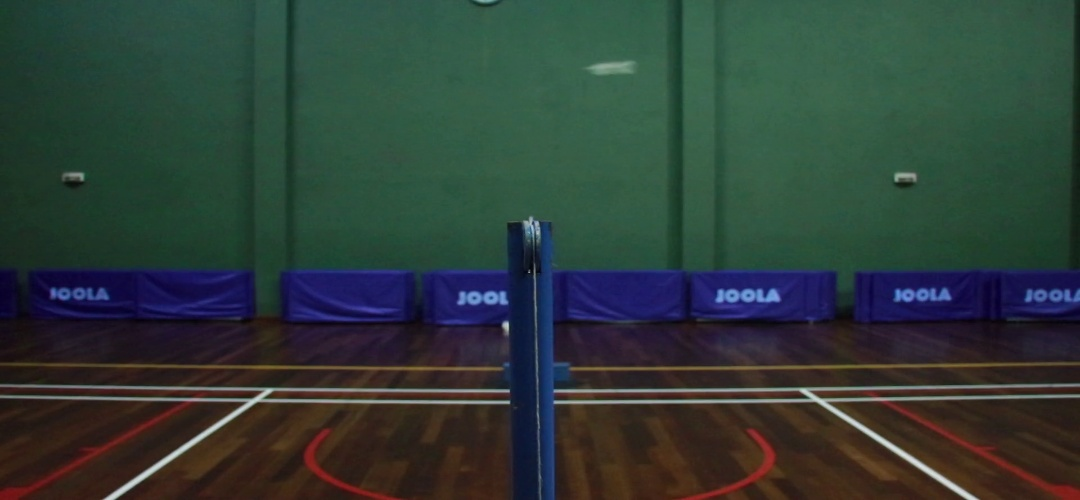c1: (237, 394, 269, 410)
c2: (794, 391, 849, 411)
net_level: (507, 222, 555, 287)
shuttle: (588, 59, 642, 82)
